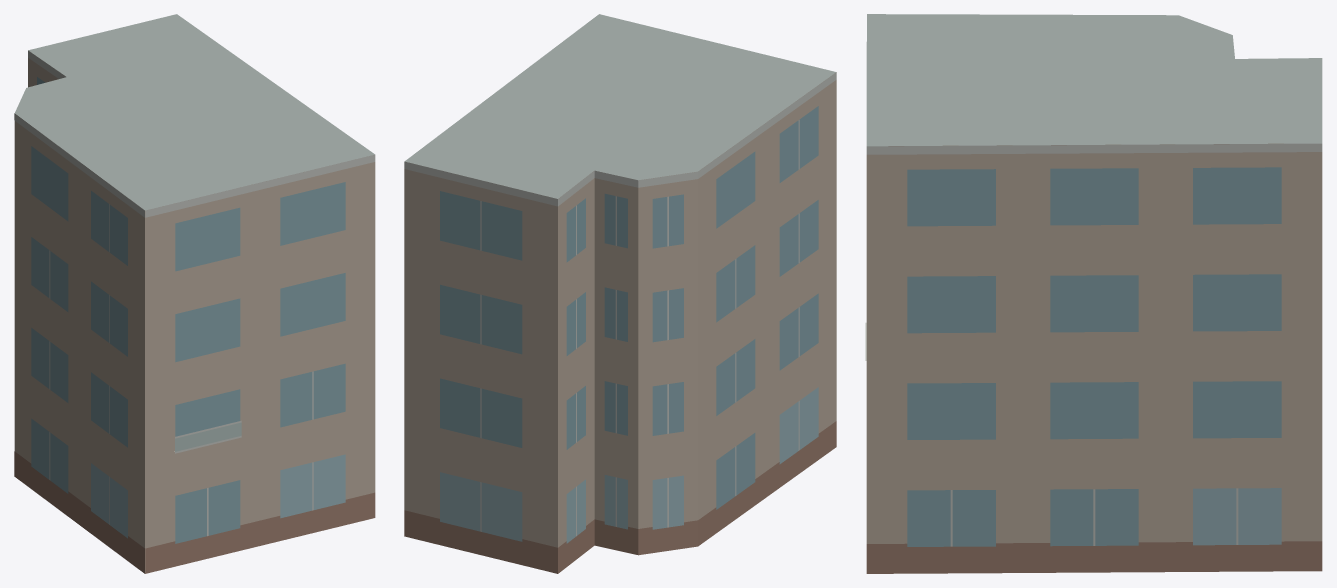
File: survey-upis-32925399.glb
3 renders of one model, left to right at view 1: azimuth 30°, elevation 25°; view 2: azimuth 150°, elevation 25°; view 3: azimuth 270°, elevation 25°, orthographic. The views are drawn at different scales.
Parts seen in each view (by area): view 1: survey-upis-32925399.tmp; view 2: survey-upis-32925399.tmp; view 3: survey-upis-32925399.tmp.
Boxes of the visible parts, x1=… form: survey-upis-32925399.tmp: x1=14, y1=14, x2=375, y2=573; survey-upis-32925399.tmp: x1=404, y1=14, x2=836, y2=573; survey-upis-32925399.tmp: x1=865, y1=14, x2=1322, y2=573.
Size of the model in its own units: 8.1 by 12.2 by 11.83.
